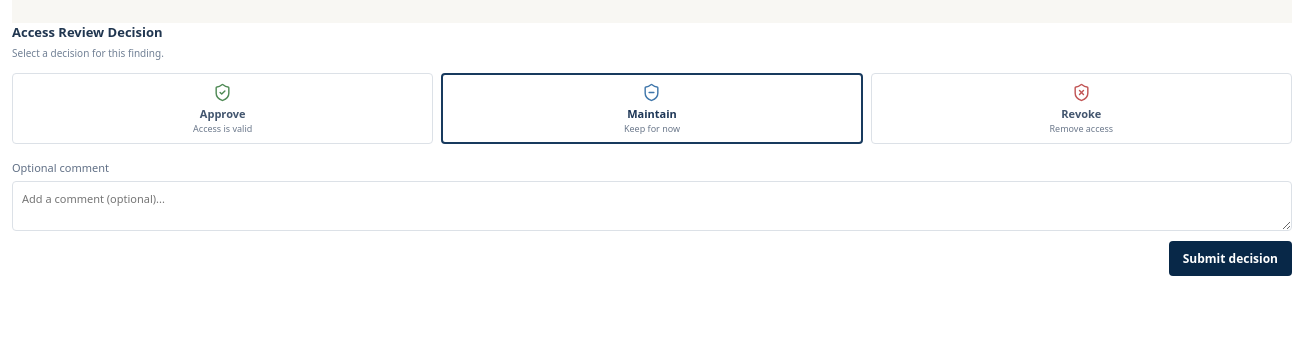
DecisionControls › records a revoke request without claiming provider mutation
The image size is (1304, 354).
Click the button "Revoke Remove access". click: (1081, 108)
box: [871,73,1292,144]
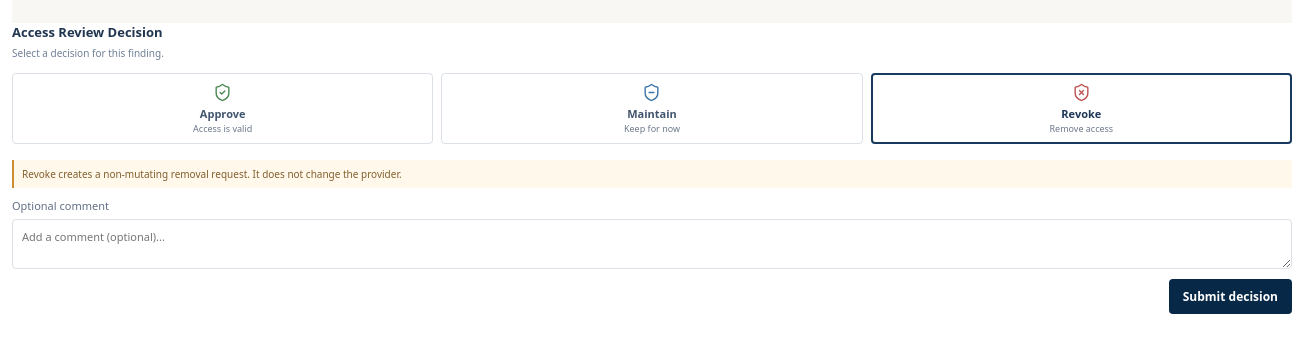
Now the text "does not change the provider" is shown, box [22,167,402,181]
Type "No longer needed." into the text box named "Decision comment". click: (652, 244)
box: [12,219,1292,269]
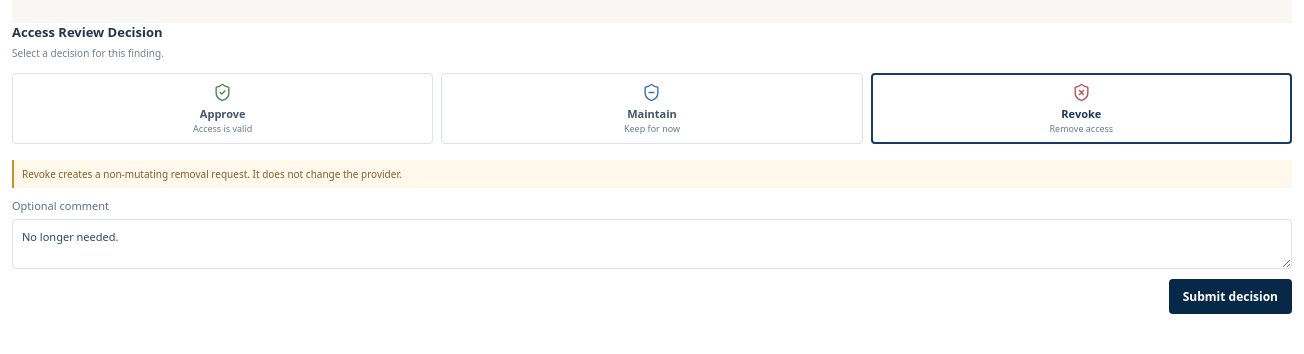
Click the button "Submit decision". click: (1230, 296)
box: [1169,279,1292,314]
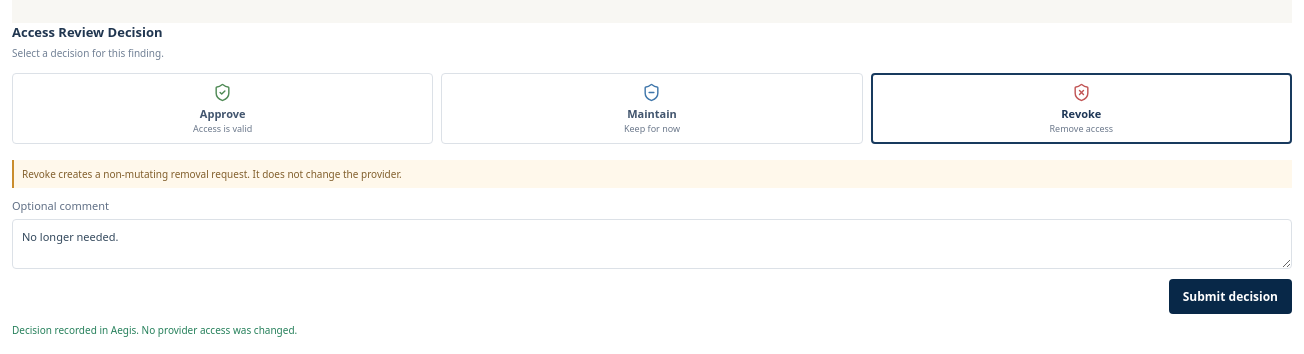
Now the text "Decision recorded in Aegis. No provider access was changed." is shown, box [12,323,297,337]
